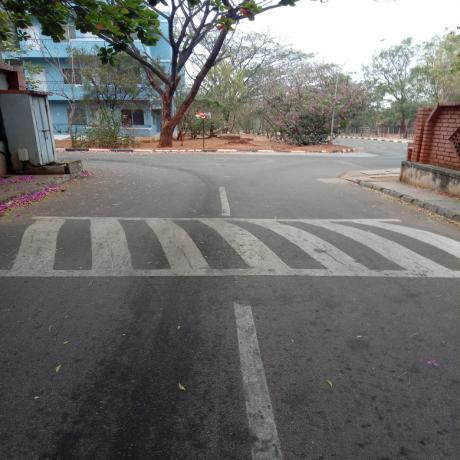Speed Bump: (0, 215, 459, 278)
